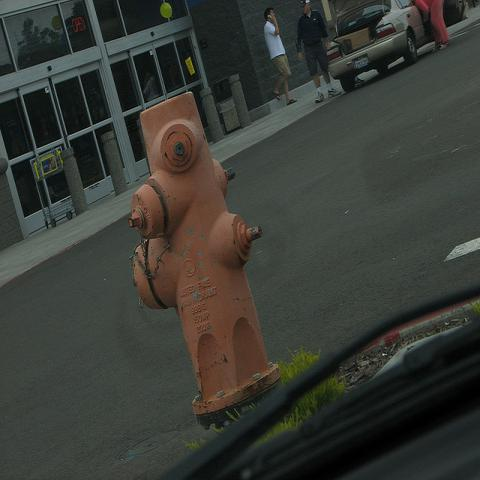car: (329, 0, 432, 95)
